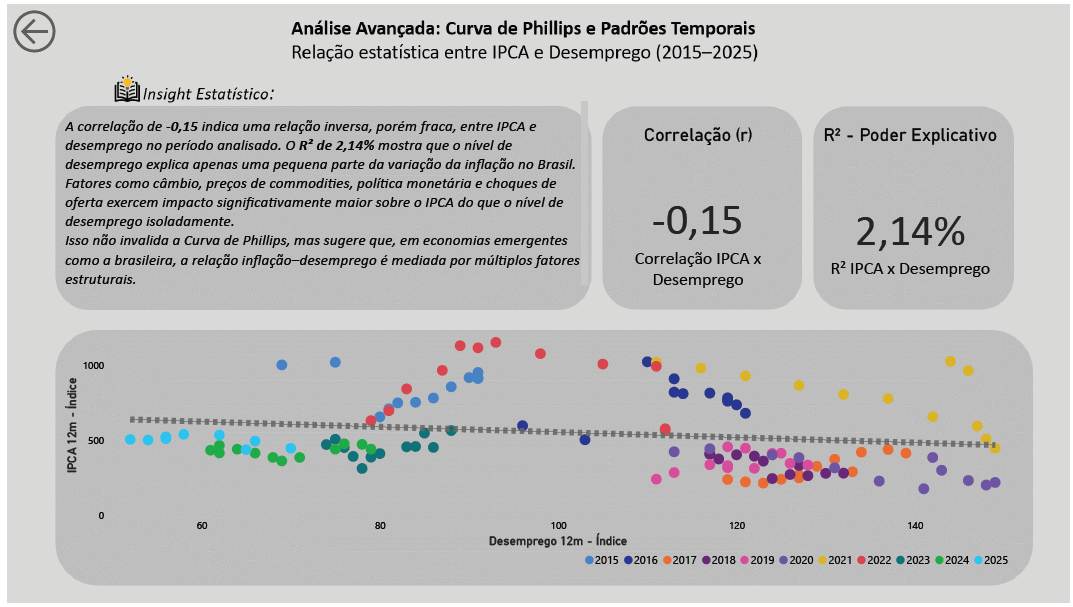

What the dashboard file says about the page in this screenshot:
{"tool":"powerbi","page":{"name":"2. Curva de Phillips","canvas":[1280,720],"ordinal":1},"visuals":[{"type":"scatterChart","fields":{"X":["fDesemprego_brasil.Desemprego 12m (%)"],"Y":["fIpca_brasil.IPCA 12m"],"Category":["dCalendário.Ano-Mês"],"Series":["dCalendário.Ano"]},"box":[64,384,1152,304],"z":0},{"type":"cardVisual","title":"R² - Poder Explicativo","fields":{"Data":["dCalendário.R² IPCA x Desemprego"]},"box":[960,144,256,256],"z":1000},{"type":"cardVisual","title":"Correlação (r)","fields":{"Data":["_Medidas.Correlação IPCA x Desemprego"]},"box":[704,144,256,256],"z":2000},{"type":"textbox","box":[64,112,640,240],"z":3000},{"type":"image","box":[128,85,32,32],"z":4000},{"type":"actionButton","box":[0,0,96,64],"z":5000}]}

Visuals, with their boxes in screenshot pixels (x1, y1, x2, y2), scaled from the page's 1280x720 canvas onto the 1073x607 screenshot:
scatterChart - fDesemprego_brasil.Desemprego 12m (%) x fIpca_brasil.IPCA 12m: <region>54, 324, 1019, 580</region>
"R² - Poder Explicativo" cardVisual: <region>805, 121, 1019, 337</region>
"Correlação (r)" cardVisual: <region>590, 121, 805, 337</region>
textbox: <region>54, 94, 590, 297</region>
image: <region>107, 72, 134, 99</region>
actionButton: <region>0, 0, 80, 54</region>
